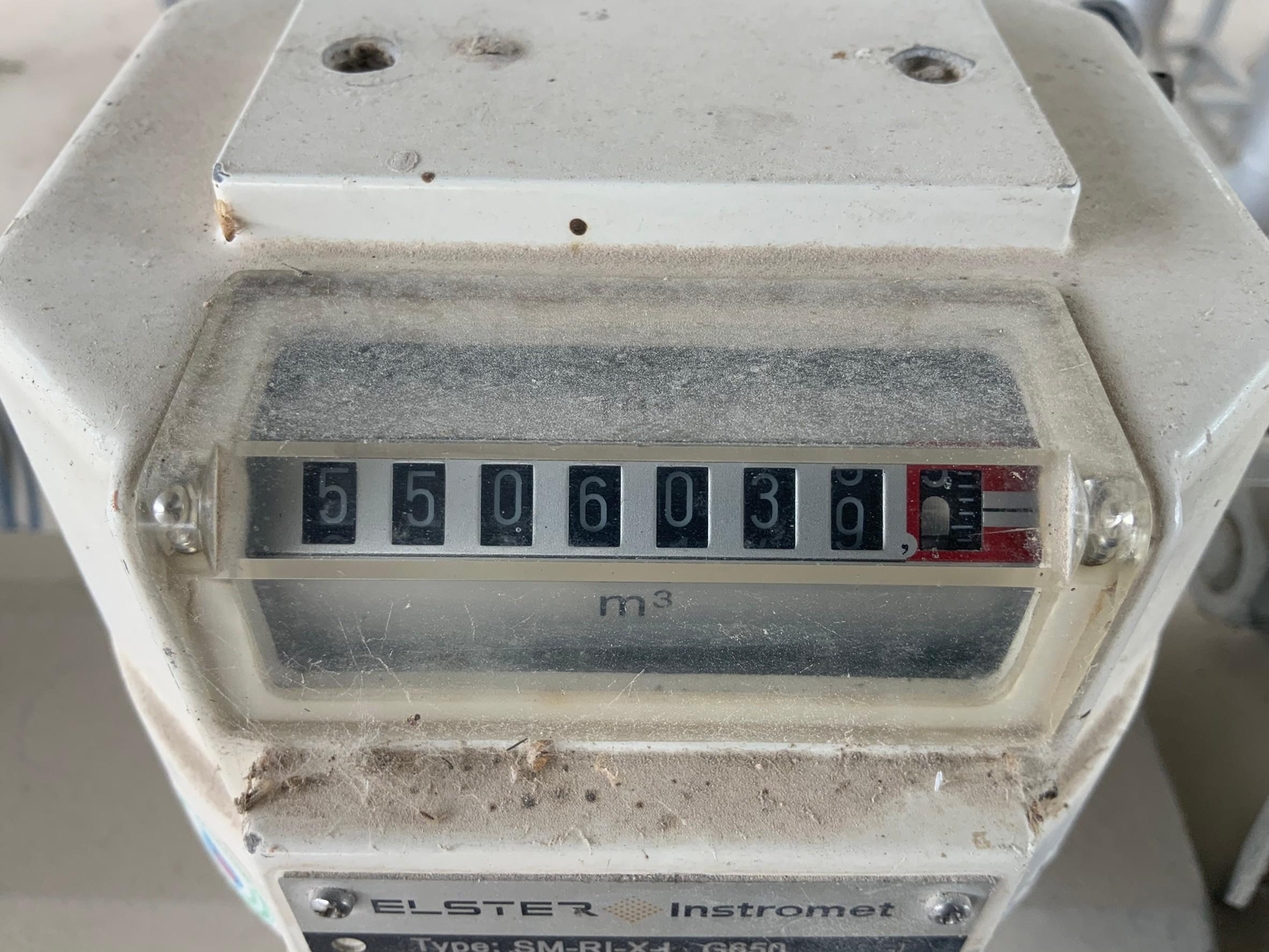analog_dial: (246, 457, 1041, 567)
